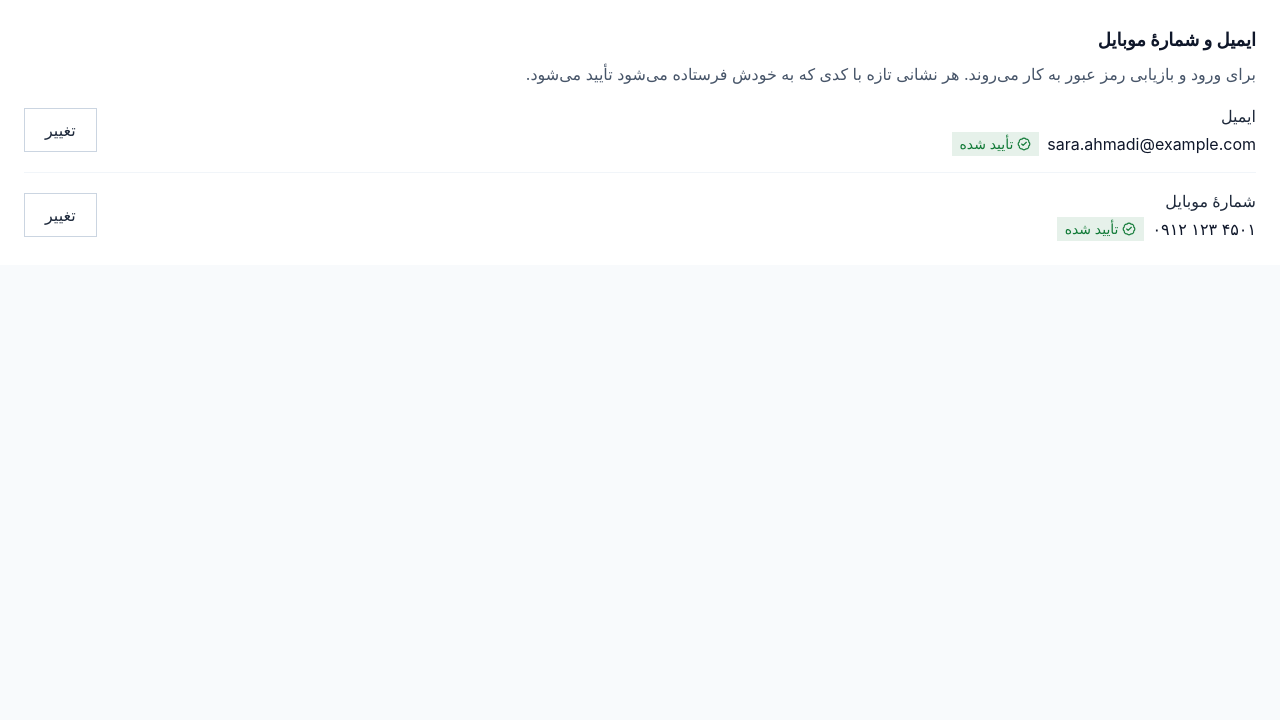
the proof a change asks for (§4.17) › the current password field fills from a password manager
The width and height of the screenshot is (1280, 720).
Step 1. Click the button with aria-label "تغییر ایمیل" → (60, 130), box x1=24 y1=108 x2=97 y2=152
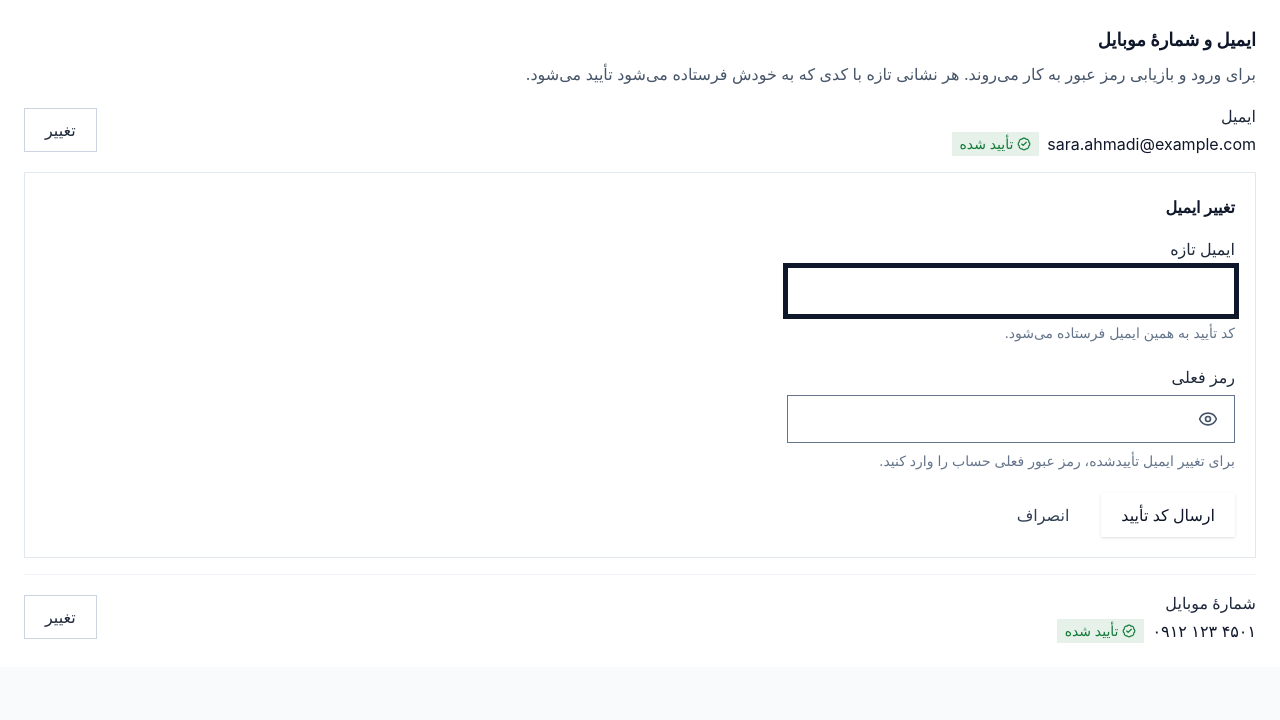
Step 2. Click the button "انصراف" → (1043, 515), box x1=997 y1=493 x2=1089 y2=537
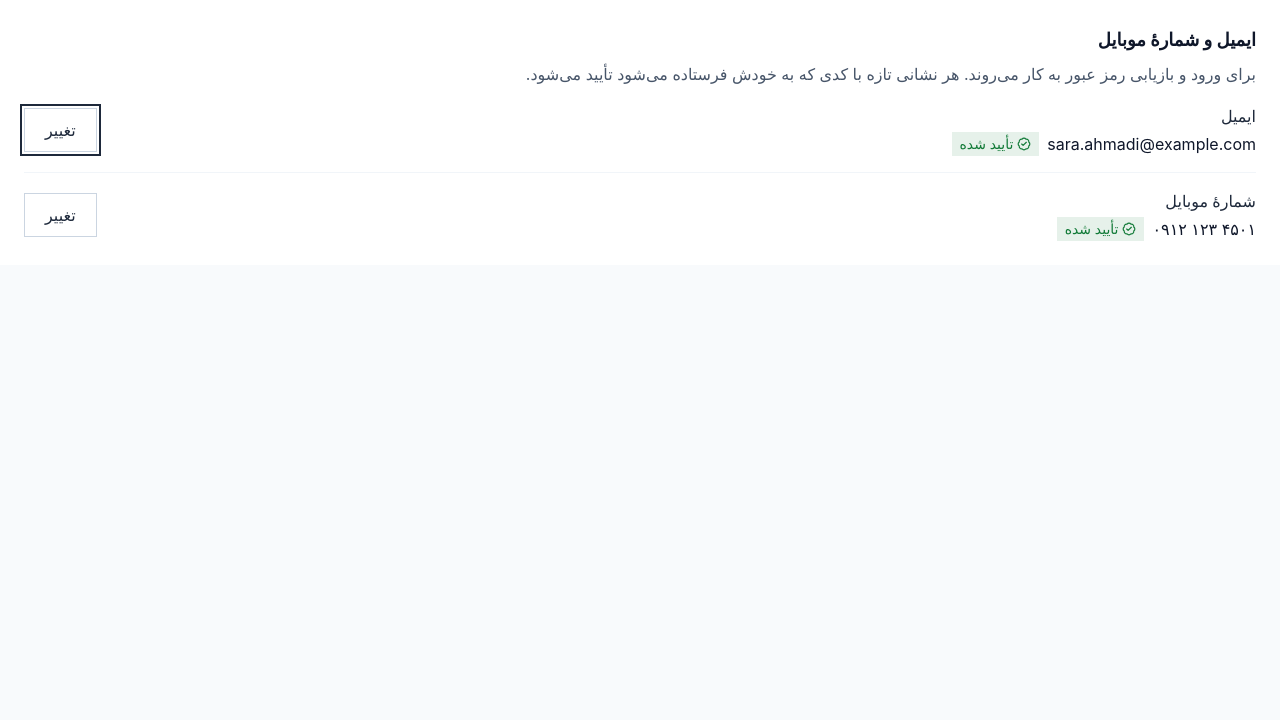
Check: the label labelled "رمز فعلی" is gone
